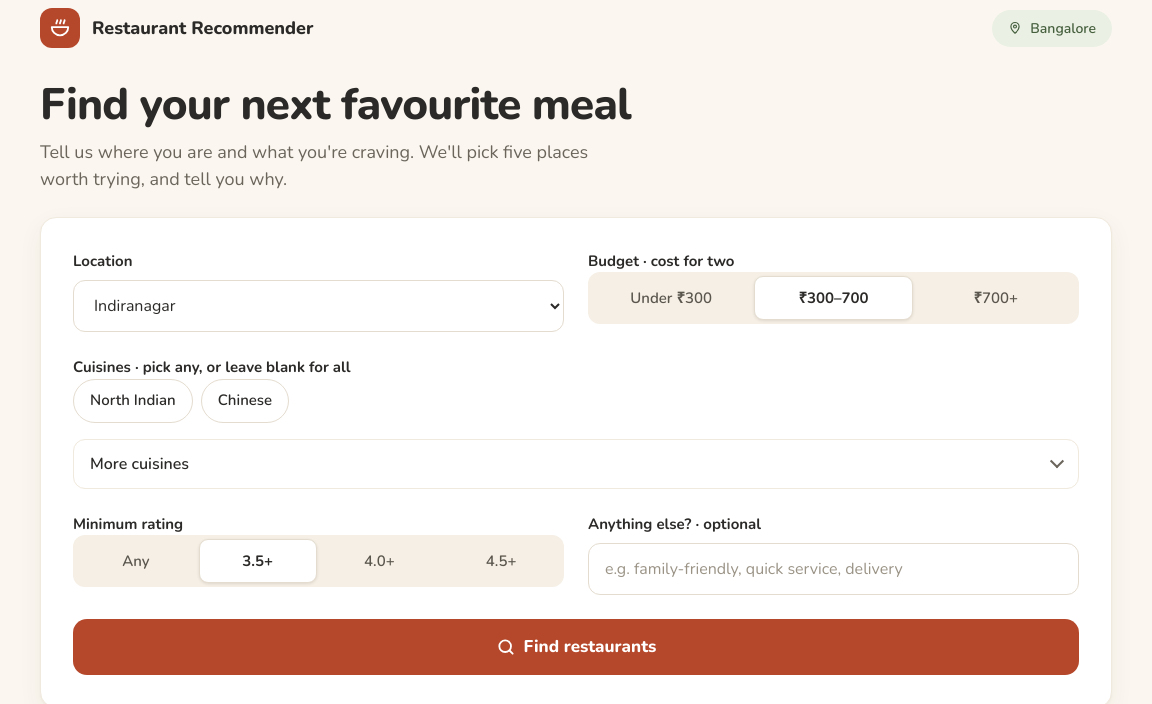
it: Recommender › shows an error when the network fails on submit
Click the button "Find restaurants" at {"x": 576, "y": 647}, box [73,619,1079,675]
(page scrolled)
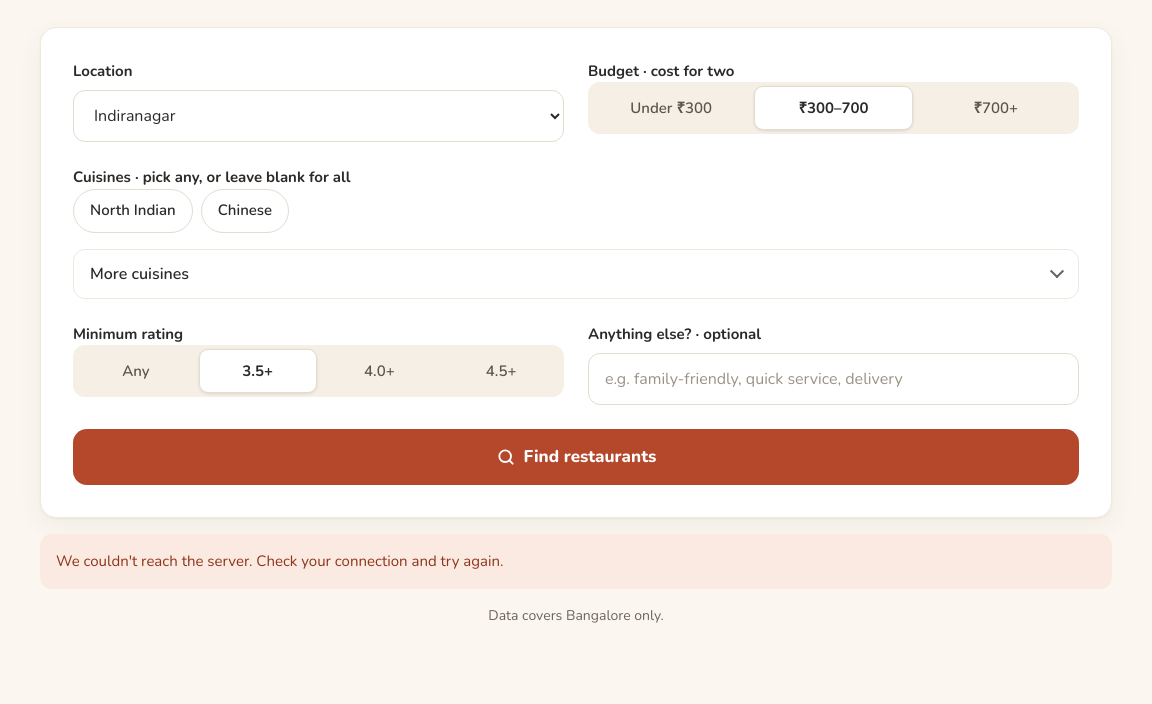
Check: the message shows "We couldn't reach the server", box [56,551,503,571]
